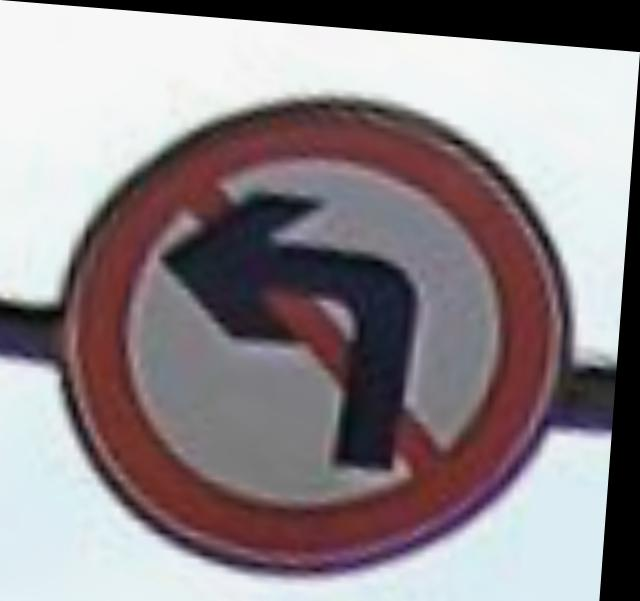not_turn_left: (41, 56, 600, 599)
